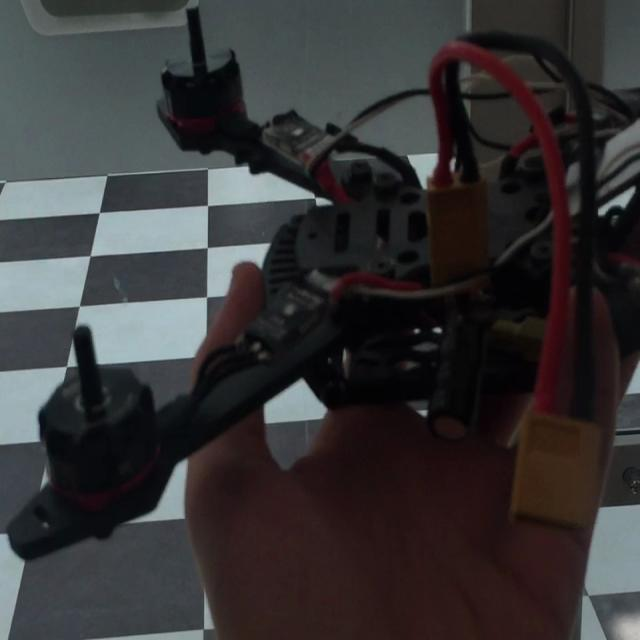drone: (34, 0, 640, 606)
